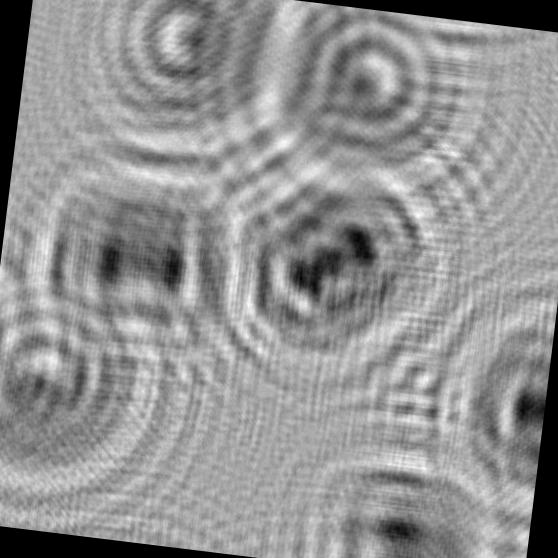B: (172, 126, 482, 420), (402, 259, 558, 544)
C: (214, 0, 522, 250), (52, 0, 319, 196), (0, 268, 189, 530)
E: (6, 128, 268, 386), (268, 414, 540, 558)
